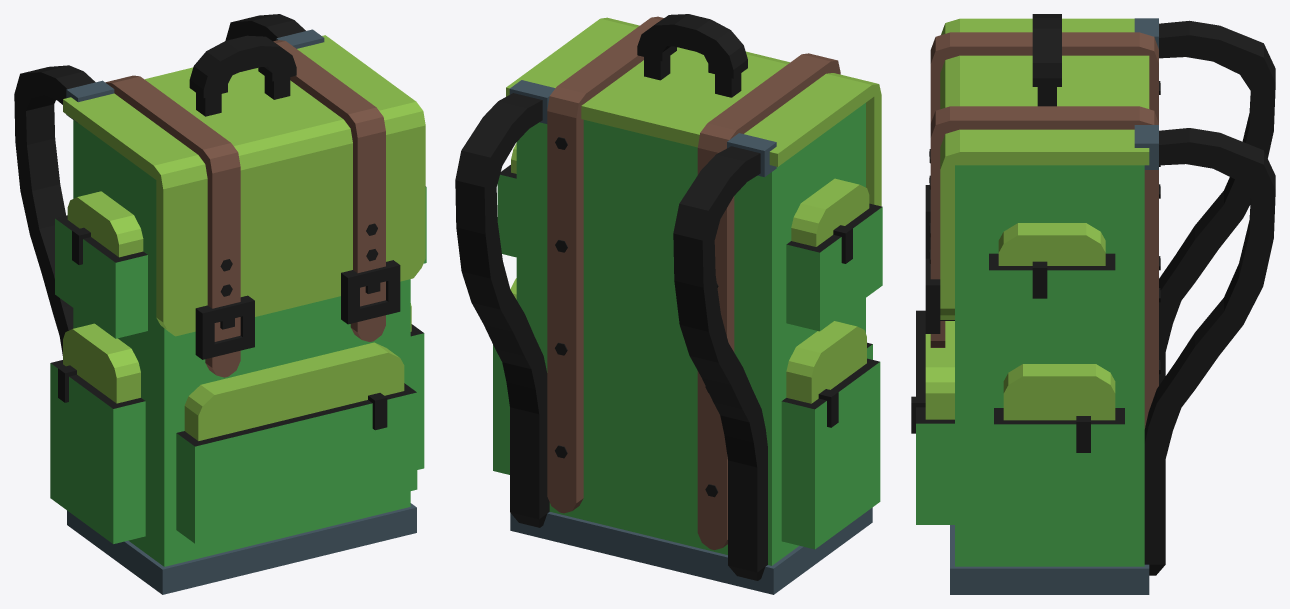
File: backpack.glb
3 views of the same model, side by side, from view 1: azimuth 30°, elevation 25°; view 2: azimuth 150°, elevation 25°; view 3: azimuth 270°, elevation 25° (orthographic). The views are drawn at different scales.
Parts seen in each view (by area): view 1: group812894768; view 2: group812894768; view 3: group812894768.
Part boxes in pixels (x1,y1,x2,y2): group812894768: (14, 14, 426, 594); group812894768: (455, 14, 882, 594); group812894768: (911, 14, 1275, 594).
Size of the model in its own units: 0.4119 by 0.6 by 0.391.
